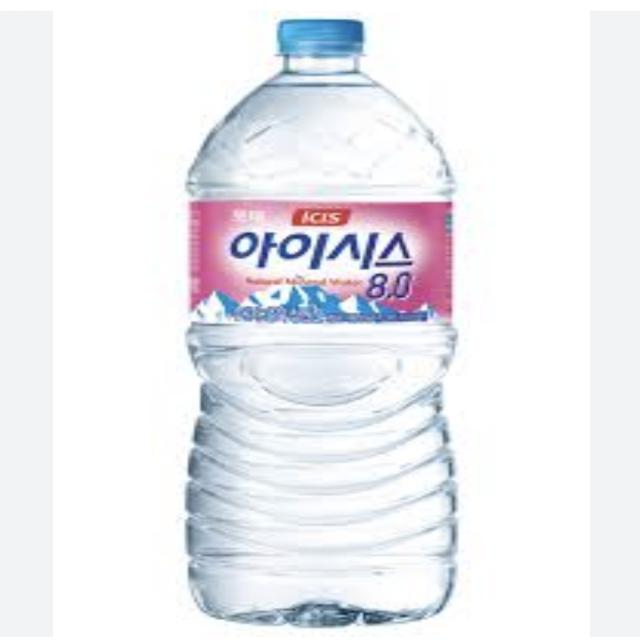recyclable: (117, 4, 547, 636)
